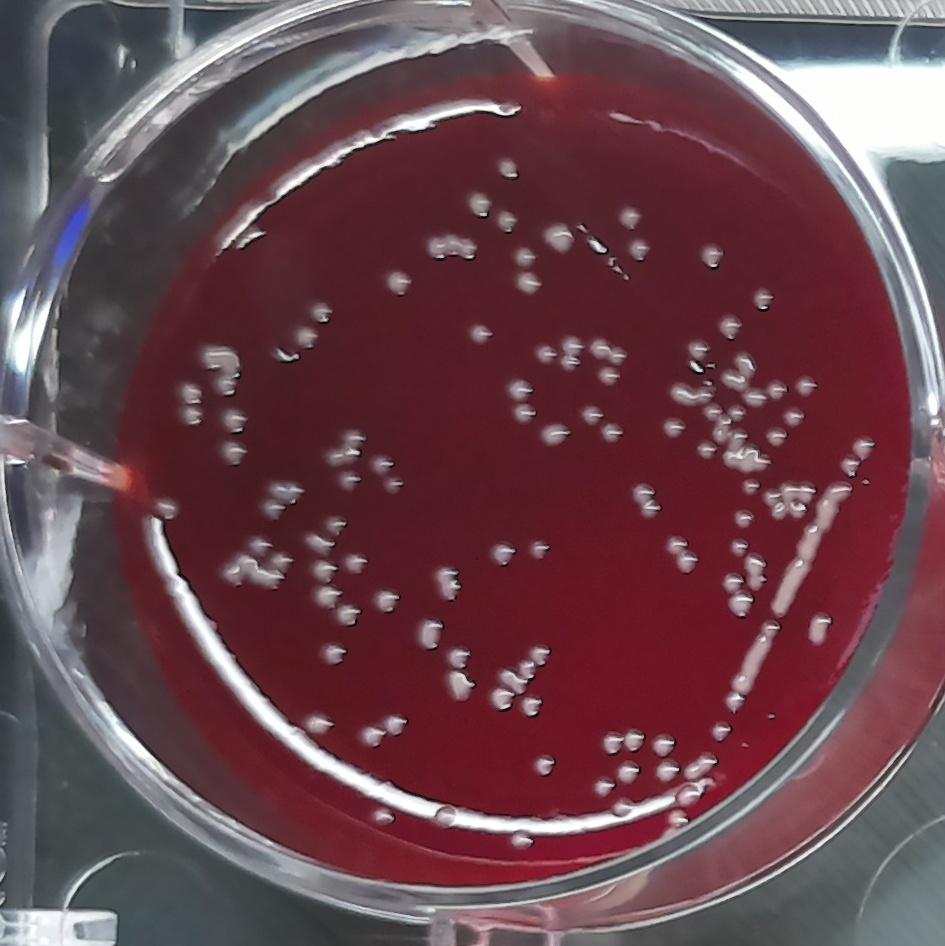staphylo-: (766, 479, 852, 619), (220, 534, 294, 596), (732, 617, 781, 696), (715, 425, 772, 475), (198, 340, 243, 397), (257, 477, 306, 525), (763, 483, 818, 521), (424, 232, 482, 266), (325, 427, 367, 469), (542, 219, 576, 264), (588, 333, 630, 369), (497, 657, 537, 693), (719, 352, 755, 392), (632, 479, 662, 521), (670, 379, 714, 407), (444, 668, 477, 704), (434, 562, 462, 603), (805, 611, 835, 649), (382, 268, 414, 303), (682, 752, 718, 782), (217, 405, 249, 437), (539, 420, 573, 450), (302, 710, 337, 739), (418, 615, 444, 652), (744, 552, 768, 592), (466, 321, 497, 351), (217, 440, 247, 471), (518, 269, 547, 301), (305, 527, 338, 555), (750, 283, 776, 318), (681, 334, 711, 364), (290, 323, 320, 353), (611, 203, 642, 232), (561, 334, 584, 372), (649, 729, 678, 759), (305, 296, 336, 324), (490, 537, 518, 568), (319, 640, 350, 668), (493, 204, 519, 237), (728, 586, 754, 619), (493, 158, 523, 186), (356, 723, 386, 751), (429, 801, 457, 831), (717, 309, 744, 340), (152, 493, 180, 522), (508, 827, 537, 855), (311, 584, 340, 611), (675, 548, 702, 577), (700, 238, 724, 270), (505, 376, 533, 403), (372, 587, 400, 614), (311, 557, 339, 584), (780, 403, 808, 430), (513, 242, 539, 270), (654, 759, 682, 785), (740, 385, 768, 411), (673, 783, 702, 807), (519, 694, 545, 720), (627, 237, 652, 264), (534, 752, 559, 779), (533, 342, 558, 368), (445, 643, 471, 668), (490, 686, 515, 712), (852, 434, 878, 459), (528, 536, 552, 563), (385, 711, 408, 739), (602, 728, 625, 756), (337, 605, 362, 630), (660, 414, 685, 439), (664, 807, 689, 832), (179, 379, 203, 405), (514, 402, 538, 428), (616, 760, 640, 786), (468, 190, 490, 218), (624, 725, 645, 754), (581, 401, 605, 426), (600, 420, 624, 445), (337, 468, 361, 493), (720, 569, 744, 594), (764, 377, 787, 403), (321, 513, 348, 535), (370, 451, 394, 475), (794, 372, 818, 396), (180, 406, 205, 429), (345, 551, 368, 576), (763, 426, 788, 449), (370, 803, 393, 828), (696, 438, 718, 464), (610, 795, 636, 817), (381, 473, 405, 496), (532, 642, 553, 668), (593, 773, 614, 799), (732, 509, 755, 532), (701, 399, 723, 423), (599, 366, 622, 388), (665, 533, 688, 555), (709, 721, 733, 742), (841, 451, 862, 475), (723, 692, 746, 713), (729, 535, 750, 558), (727, 402, 749, 423), (741, 477, 761, 497)
